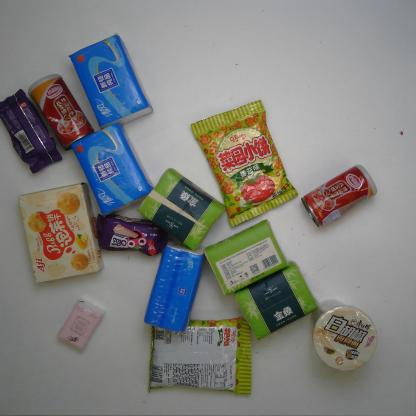Canned Food: (27, 71, 95, 153), (301, 164, 377, 228)
Dessert: (18, 180, 105, 283), (0, 87, 62, 174), (96, 211, 169, 256)
Instant Noodles: (309, 298, 378, 372)
Puffed Food: (190, 98, 299, 229), (147, 315, 252, 395)
Tissue: (69, 33, 153, 131), (70, 122, 153, 218), (137, 167, 227, 252), (234, 260, 319, 341), (204, 219, 288, 298), (144, 240, 205, 333), (58, 298, 106, 352)
